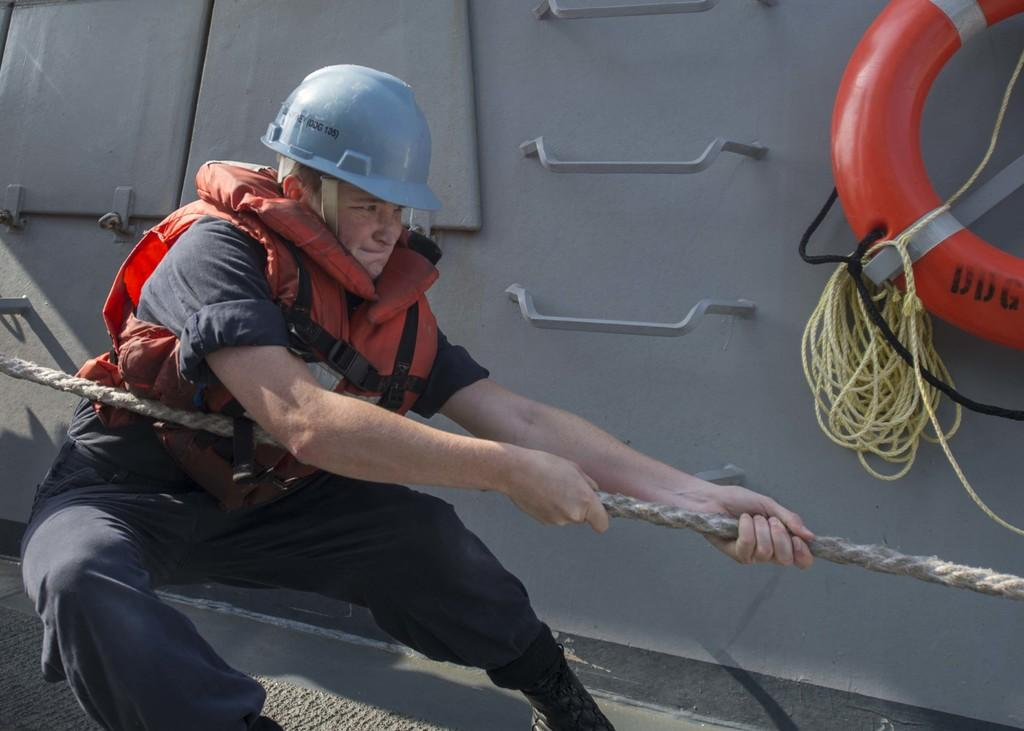helmet: (258, 63, 442, 277)
